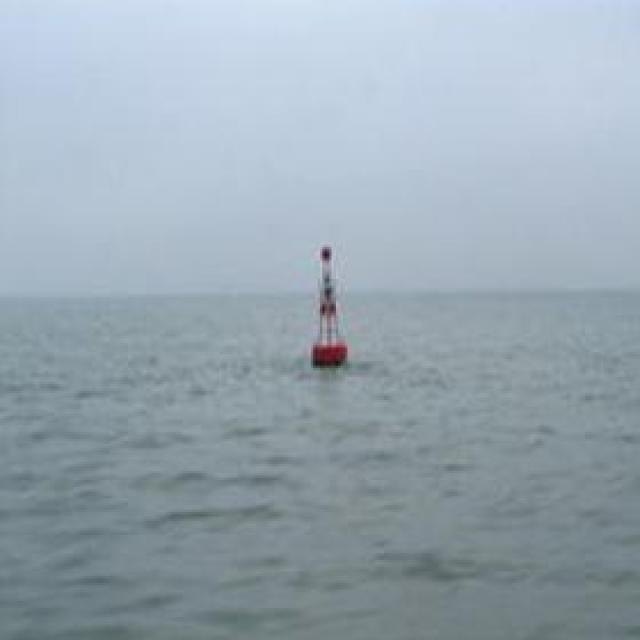buoy: (303, 235, 355, 375)
